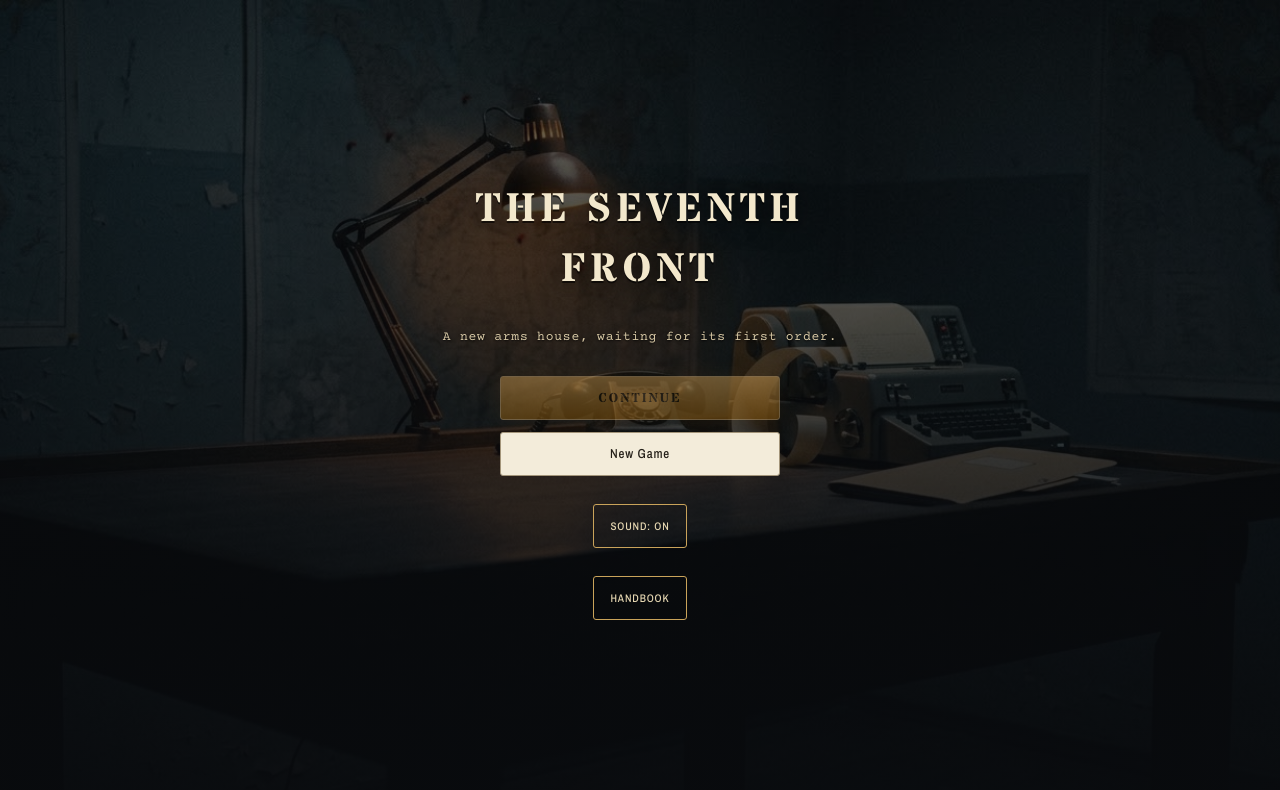
App (P163) — Actions-menyn öppnar mappen med verbet förvalt › REPAY: THE COMPANY öppnas med läget REPAY redan valt, och remsan säger vilket verb som är valt
The width and height of the screenshot is (1280, 790).
Step 1. Click the button with test id "menu-new-game" → (640, 454), box 500,432 -> 780,476
(page scrolled)
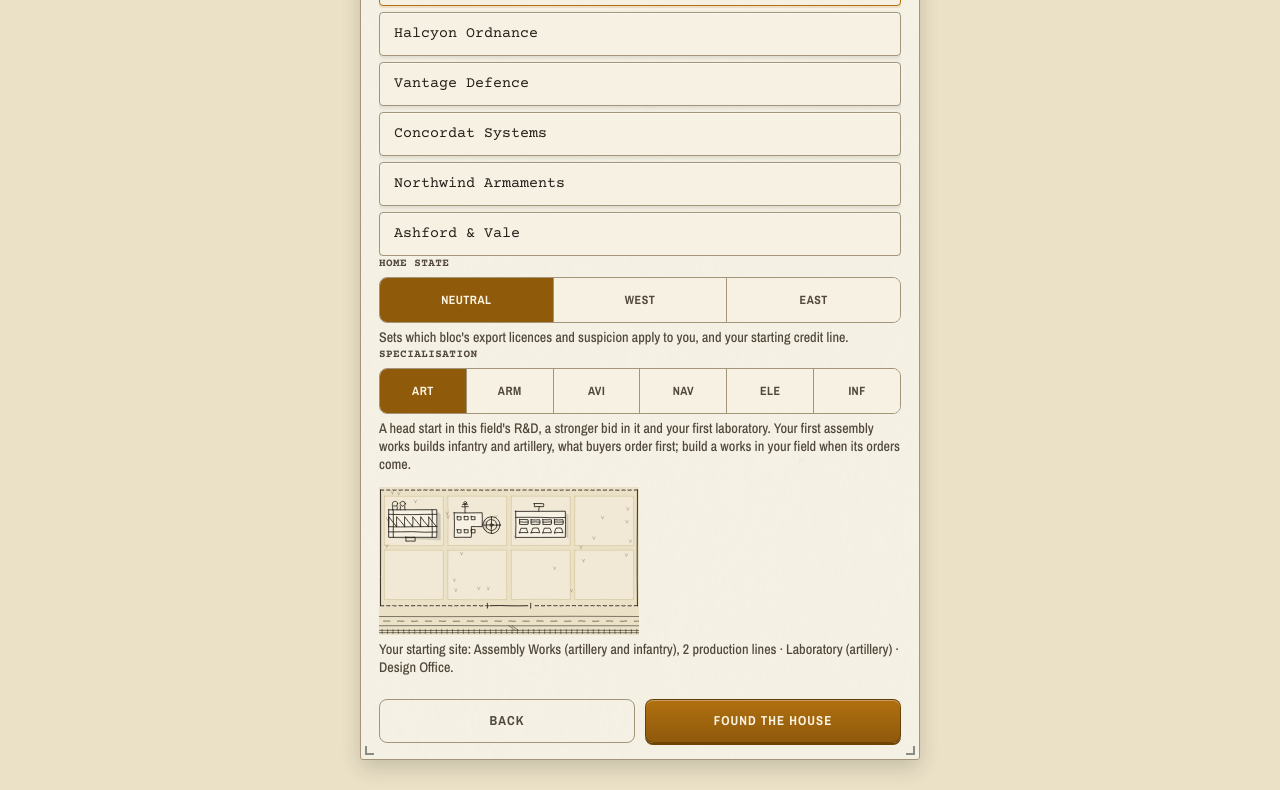
Step 2. Click the button with test id "newgame-submit" → (773, 721), box 645,699 -> 901,743
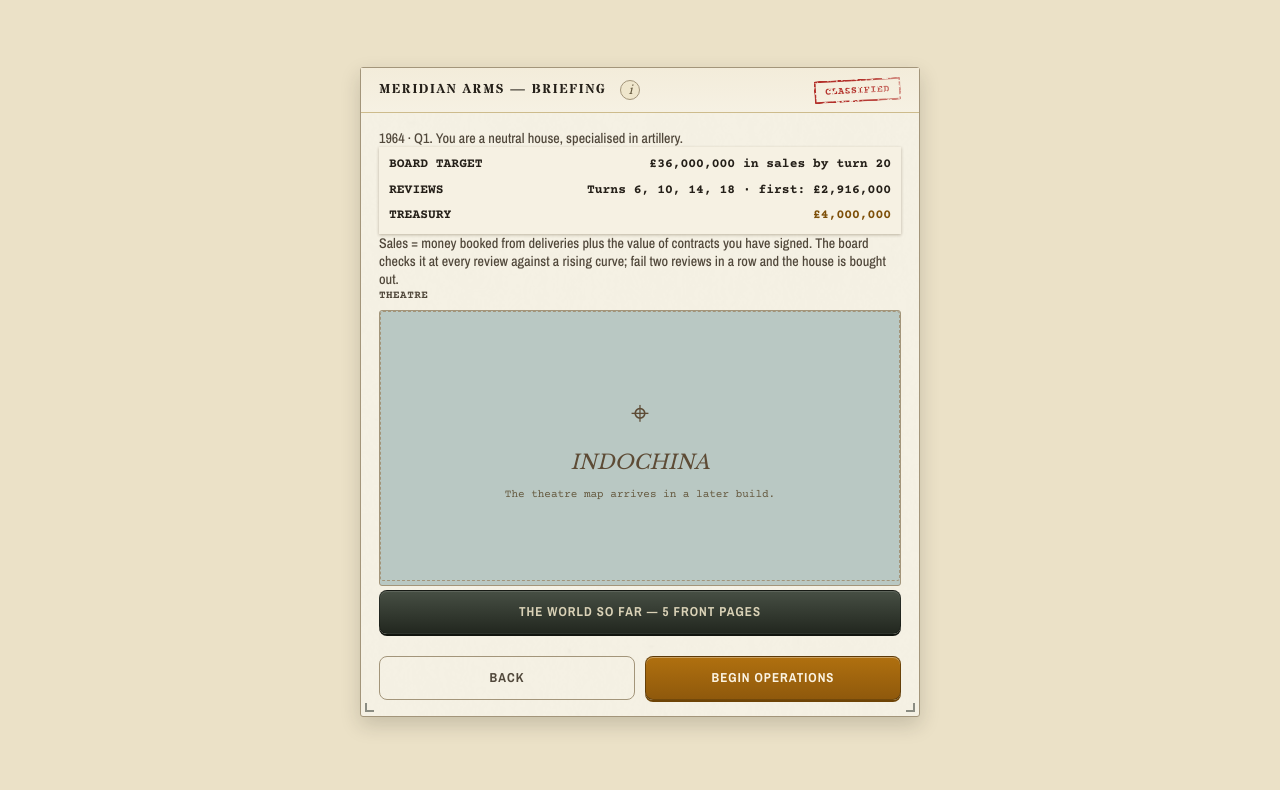
Step 3. Click the button with test id "briefing-begin" → (773, 678), box 645,656 -> 901,700
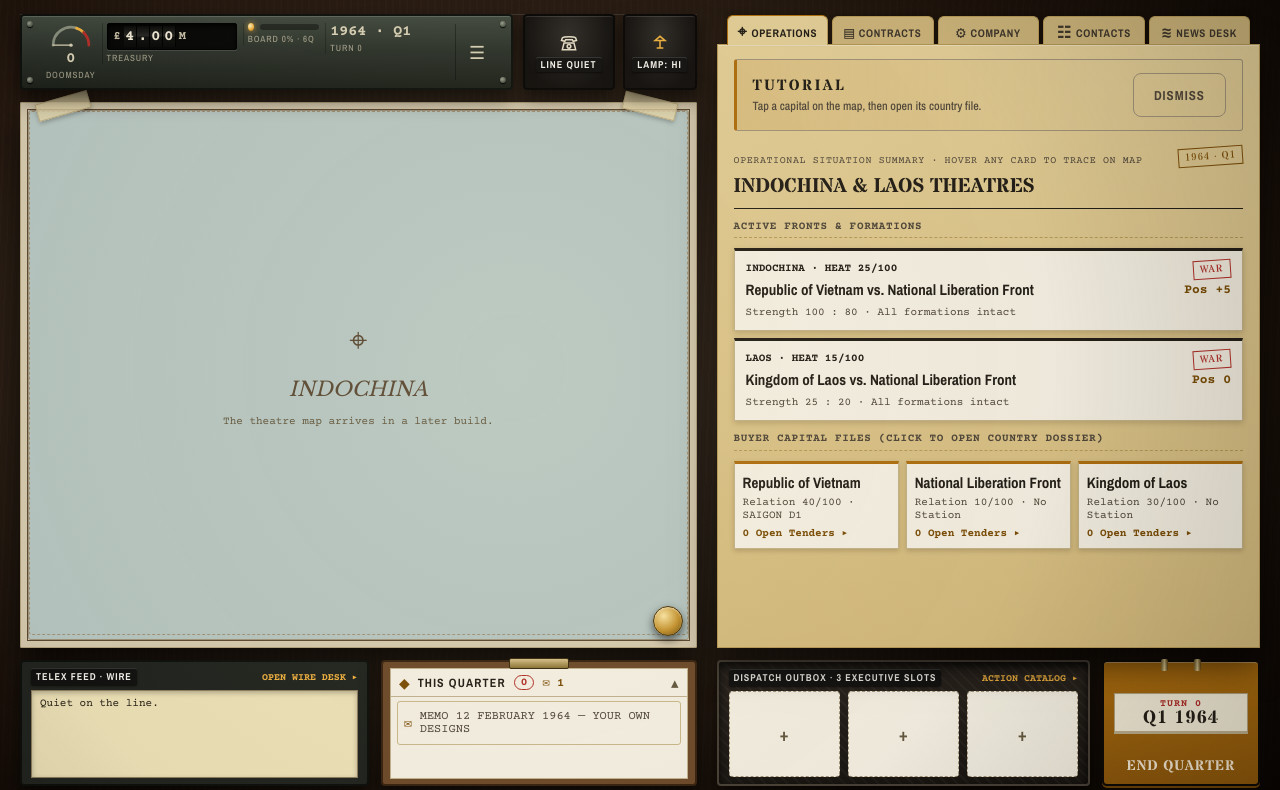
Now the header with test id "hud" is shown, box 20,14 -> 696,90
Step 4. Click the button with test id "action-slot-0-empty" → (784, 734), box 728,691 -> 840,777
(page scrolled)
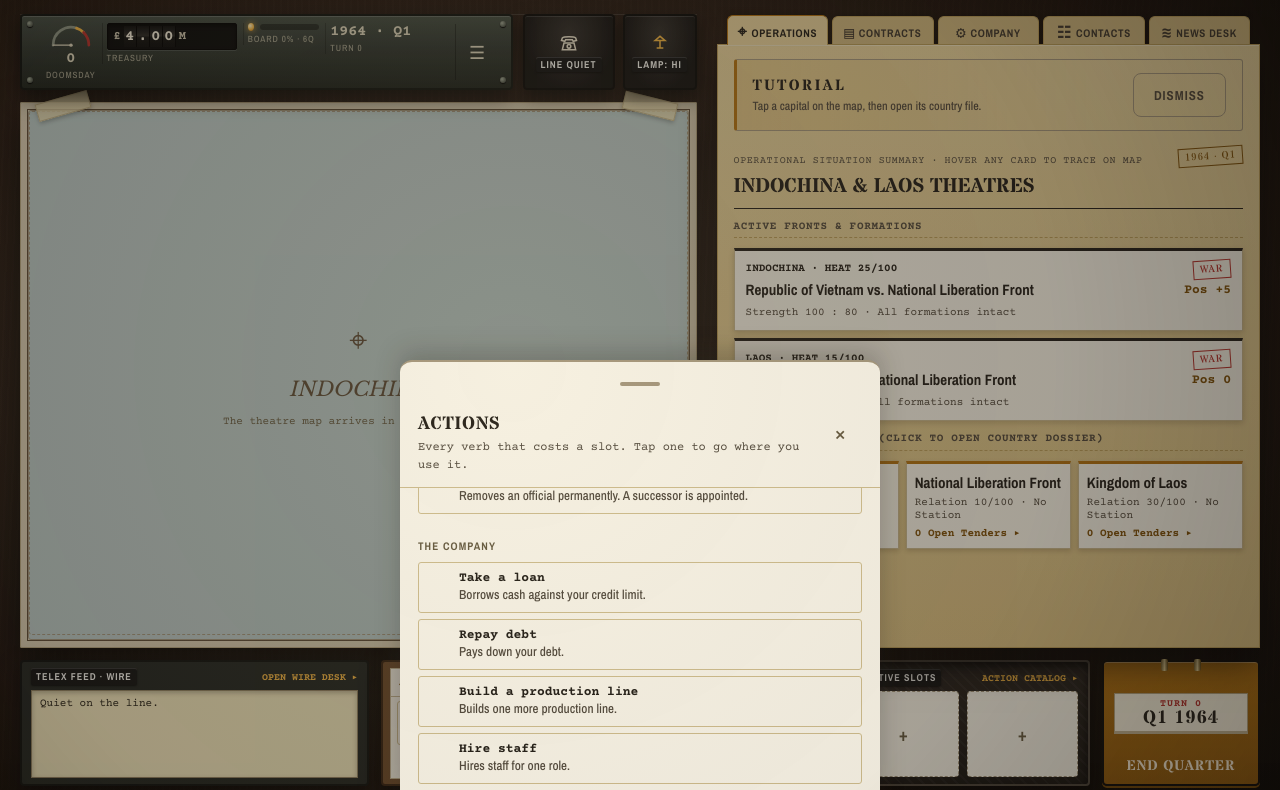
Step 5. Click the button "Repay debt Pays down your debt." → (498, 635), box 418,619 -> 862,670
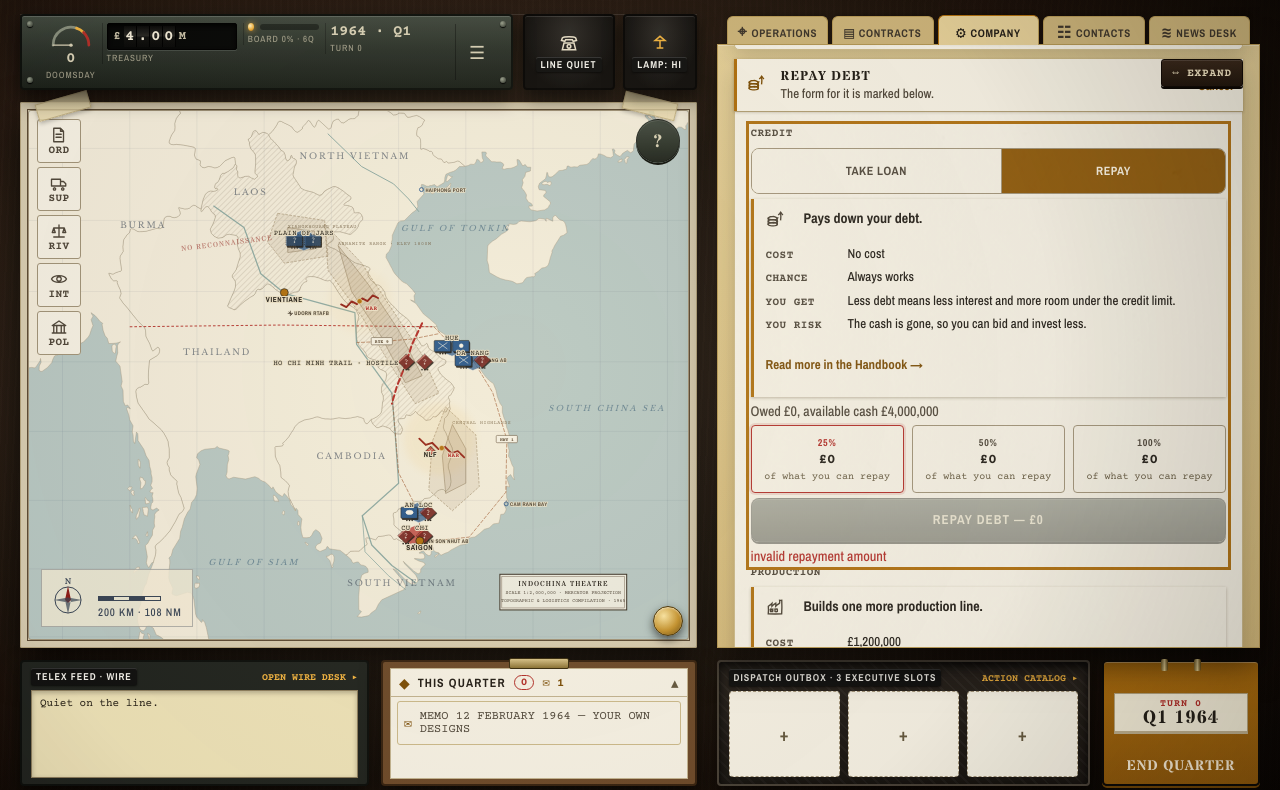
Now the element with test id "armed-verb" is shown, box 734,59 -> 1243,111
Now the text with test id "armed-verb-label" reads "Repay debt", box 780,67 -> 871,85
Now the element with test id "action-card-REPAY" is shown, box 750,199 -> 1226,397
